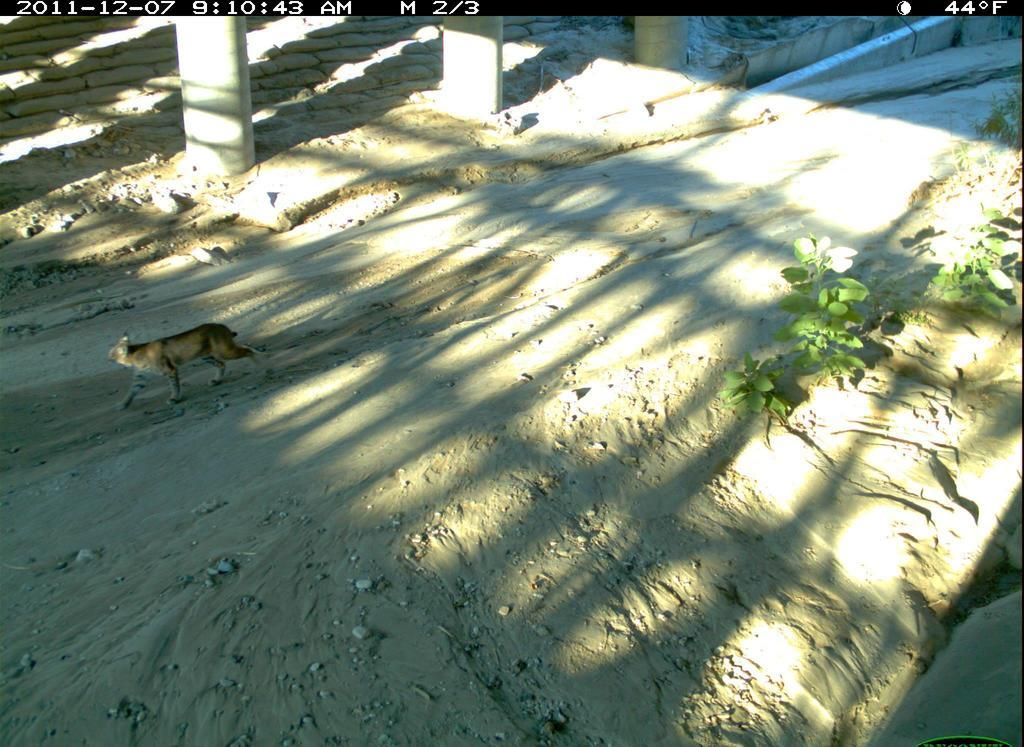bobcat: (93, 323, 271, 413)
